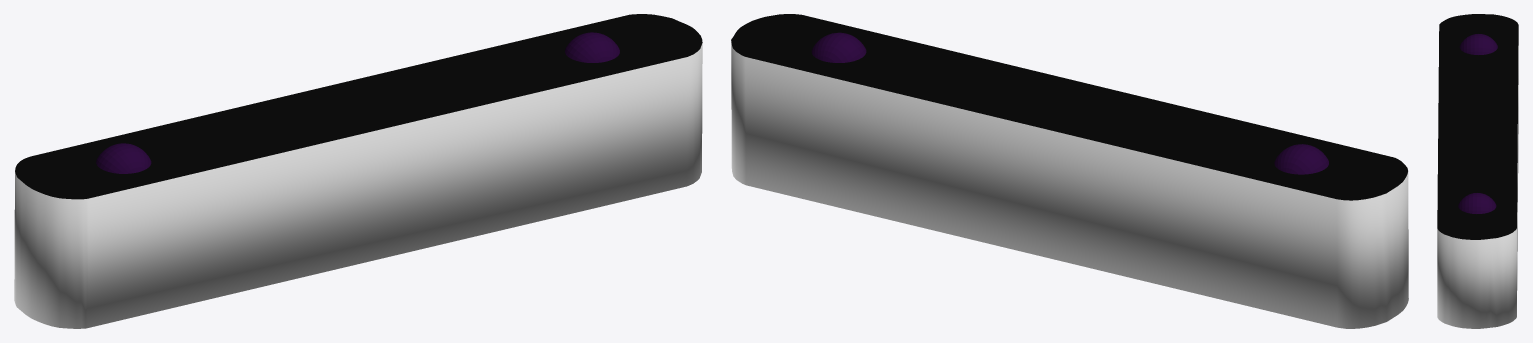
The model's file is zed_model.dae.
3 views of the same model, side by side, from view 1: azimuth 30°, elevation 25°; view 2: azimuth 150°, elevation 25°; view 3: azimuth 270°, elevation 25° (orthographic). The views are drawn at different scales.
Visible parts, largest first — view 1: Body, Body_Cover_Front, Left_Cam, Rigth_Cam; view 2: Body, Body_Cover_Front, Left_Cam, Rigth_Cam; view 3: Body_Cover_Front, Body, Rigth_Cam, Left_Cam.
Part boxes in pixels (<box>): Body: <box>14,43,702,328</box>; Body_Cover_Front: <box>15,14,702,199</box>; Left_Cam: <box>96,143,151,173</box>; Rigth_Cam: <box>565,32,619,62</box>; Body: <box>731,40,1408,328</box>; Body_Cover_Front: <box>731,14,1407,200</box>; Left_Cam: <box>1274,144,1328,174</box>; Rigth_Cam: <box>811,32,866,62</box>; Body_Cover_Front: <box>1437,14,1518,239</box>; Body: <box>1437,46,1518,328</box>; Rigth_Cam: <box>1458,193,1496,213</box>; Left_Cam: <box>1459,34,1497,54</box>.
Bounding box in the file's own units: 9.31 × 1.43 × 1.99.
